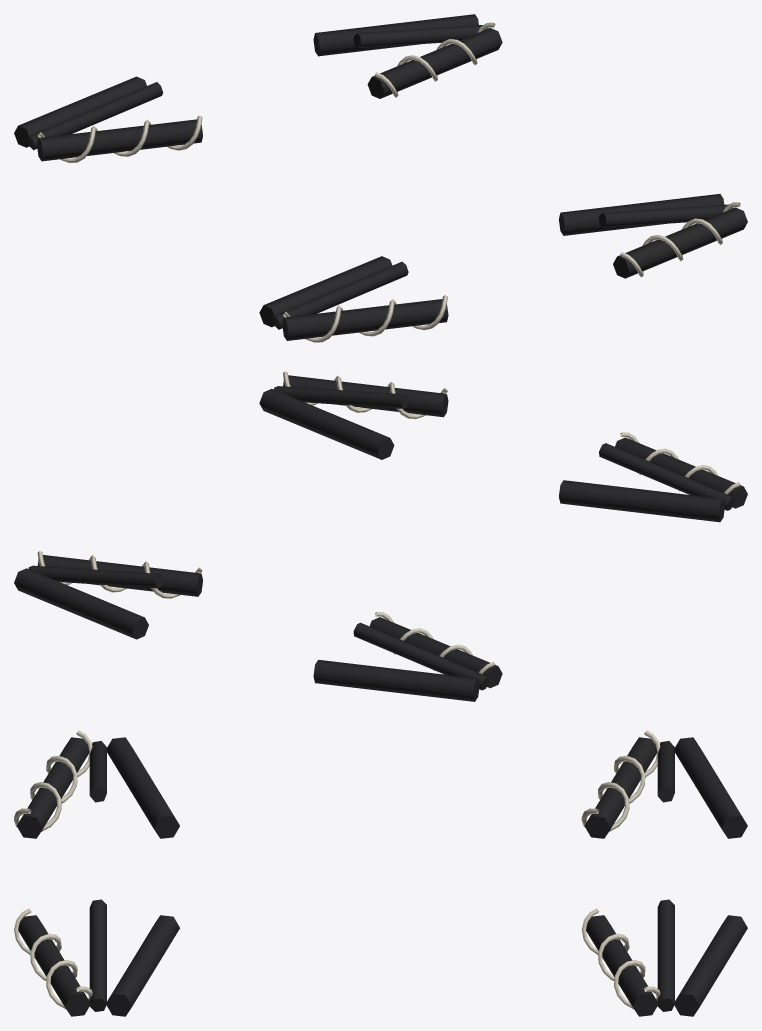
File: rd1_frame.obj
3 renders of one model, top to bottom at view 1: azimuth 30°, elevation 25°; view 2: azimuth 150°, elevation 25°; view 3: azimuth 270°, elevation 25°, orthographic. The views are drawn at different scales.
Visible parts, largest first — view 1: rd1_frame; view 2: rd1_frame; view 3: rd1_frame.
Part boxes in pixels (left/top/right/bottom): rd1_frame: left=14, top=14, right=747, bottom=342; rd1_frame: left=14, top=371, right=747, bottom=701; rd1_frame: left=14, top=730, right=747, bottom=1016.
Size of the model in its own units: 0.627 by 0.0593 by 0.7498.
